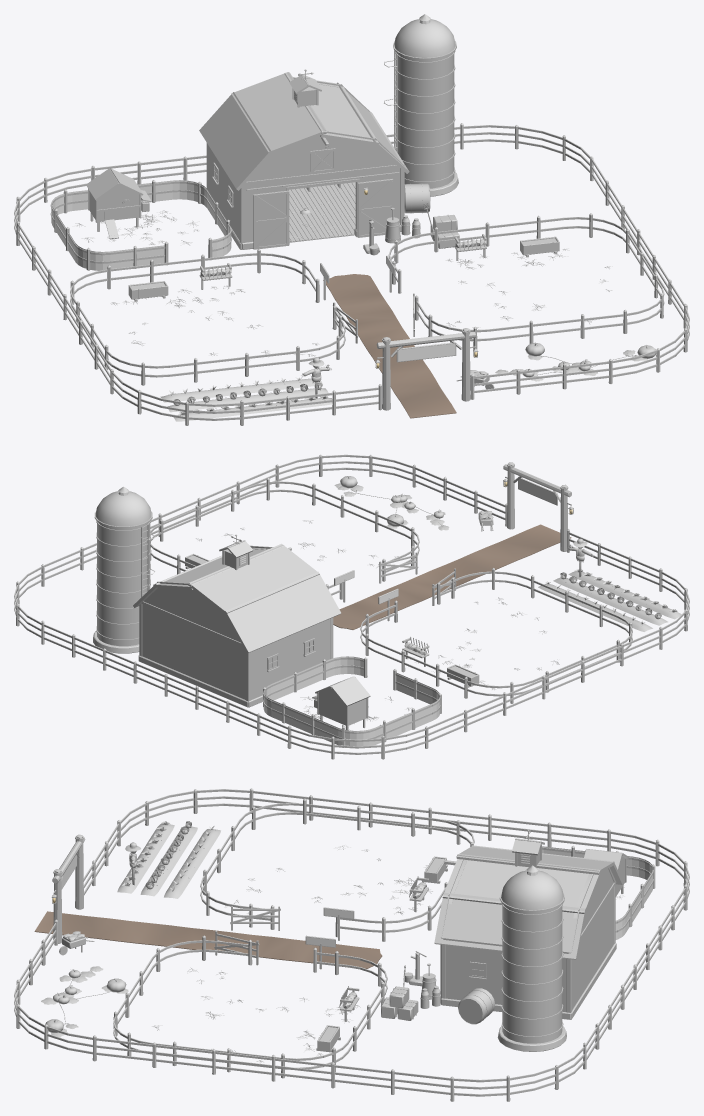
Rendered from zon_farm.glb.
The picture shows the model from 3 angles, top to bottom: view 1: azimuth 30°, elevation 25°; view 2: azimuth 150°, elevation 25°; view 3: azimuth 270°, elevation 25°; orthographic projection. The views are drawn at different scales.
Visible parts, largest first — view 1: SM_zon_farm_kit_farm_x0_zm1, SM_zon_farm_paths_stone_vc_x0_zm1, SM_zon_farm_kit_farm_clip_x0_zm1, SCREEN_bld_farm_gate_sign_front__0; view 2: SM_zon_farm_kit_farm_x0_zm1, SM_zon_farm_paths_stone_vc_x0_zm1, SM_zon_farm_kit_farm_clip_x0_zm1; view 3: SM_zon_farm_kit_farm_x0_zm1, SM_zon_farm_paths_stone_vc_x0_zm1, SM_zon_farm_kit_farm_clip_x0_zm1.
Boxes of the visible parts, box(x1,y1,x2,y2) form: SM_zon_farm_kit_farm_x0_zm1: box(14, 14, 689, 425); SM_zon_farm_paths_stone_vc_x0_zm1: box(323, 274, 456, 418); SM_zon_farm_kit_farm_clip_x0_zm1: box(51, 180, 231, 270); SCREEN_bld_farm_gate_sign_front__0: box(398, 343, 455, 361); SM_zon_farm_kit_farm_x0_zm1: box(14, 454, 689, 759); SM_zon_farm_paths_stone_vc_x0_zm1: box(333, 524, 571, 629); SM_zon_farm_kit_farm_clip_x0_zm1: box(263, 656, 439, 748); SM_zon_farm_kit_farm_x0_zm1: box(14, 788, 689, 1101); SM_zon_farm_paths_stone_vc_x0_zm1: box(34, 911, 382, 968); SM_zon_farm_kit_farm_clip_x0_zm1: box(542, 846, 653, 939).
Bounding box in the file's own units: 28.69 × 8.11 × 28.12.
